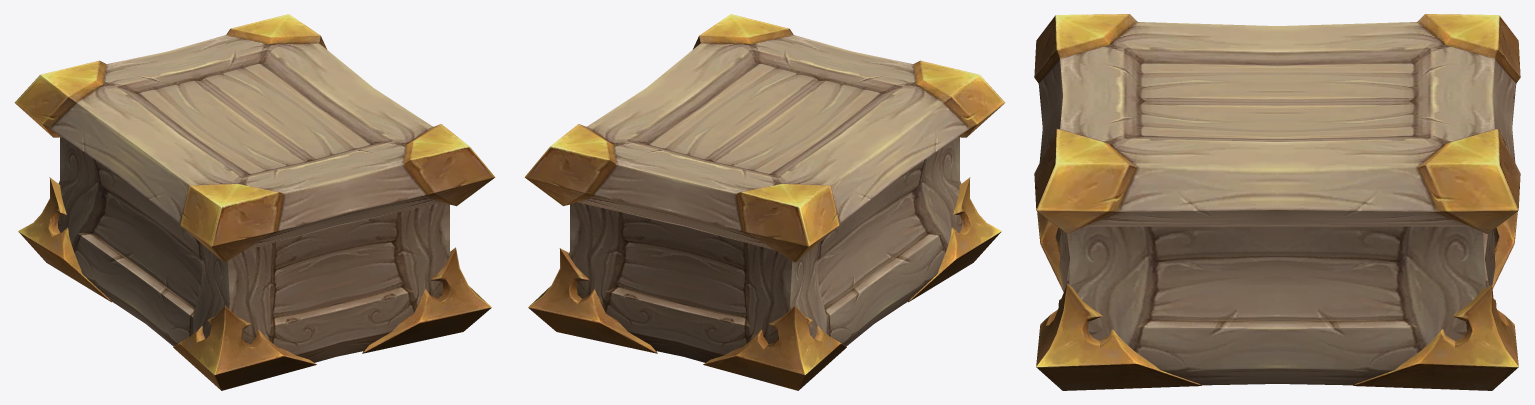
The picture shows the model from 3 angles, left to right: view 1: azimuth 30°, elevation 25°; view 2: azimuth 150°, elevation 25°; view 3: azimuth 270°, elevation 25°; orthographic projection. The views are drawn at different scales.
Size of the model in its own units: 1.29 by 0.8053 by 1.55.
1 material, 1 textured.
